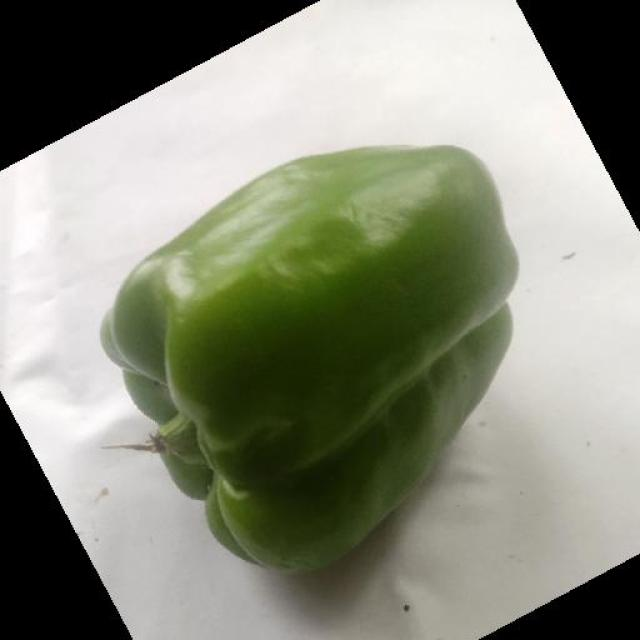Fresh_Capsicum: (146, 142, 516, 567)
